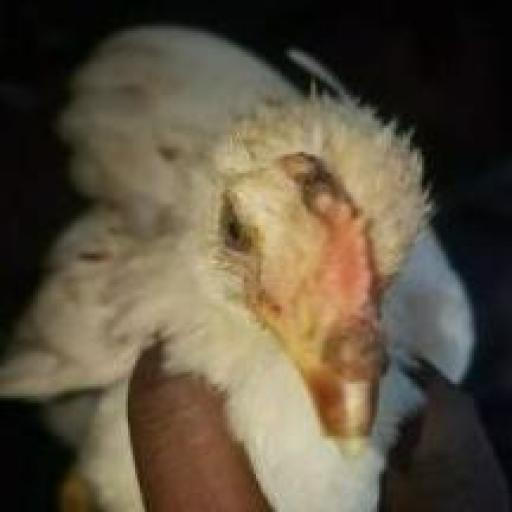disease: (302, 300, 399, 396)
